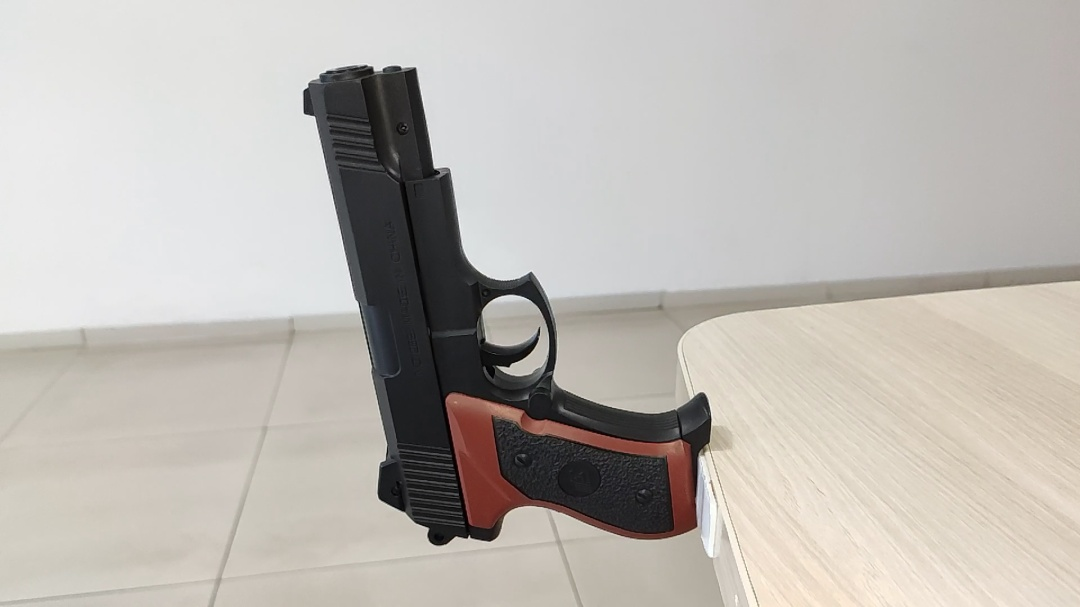gun: (300, 60, 715, 549)
